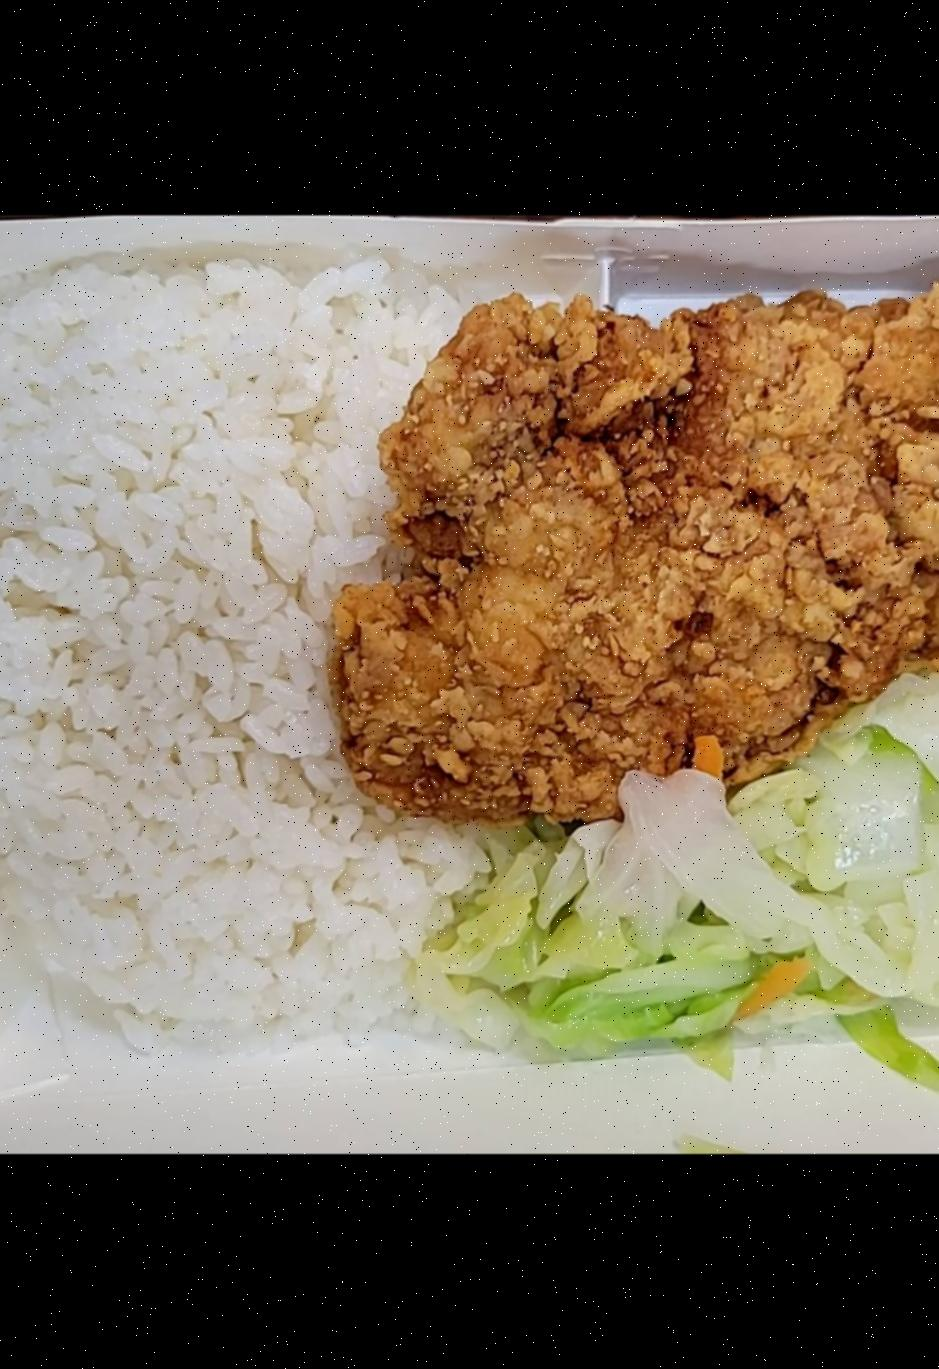box: (0, 215, 939, 1113)
kara chicken leg steak: (321, 246, 939, 840)
side dish: (432, 733, 939, 1087)
white rice: (0, 242, 532, 1050)
